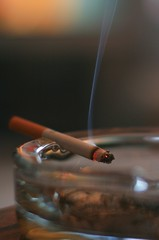cigarette: (6, 113, 117, 166)
